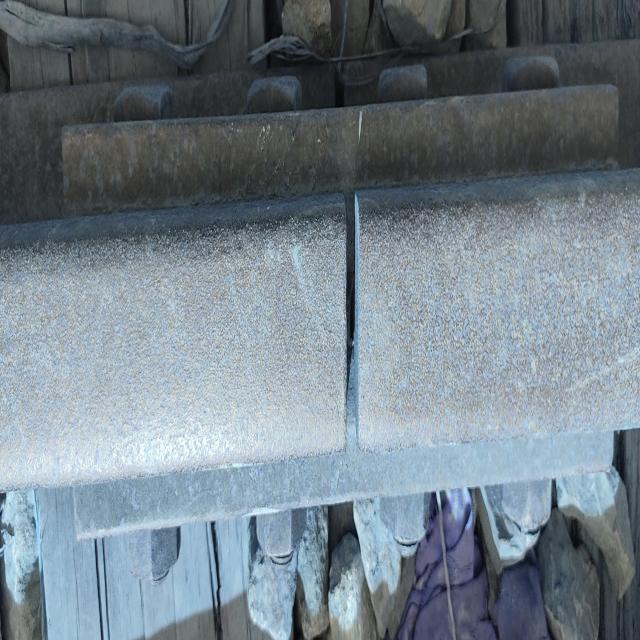Good Joint: (51, 102, 633, 551)
